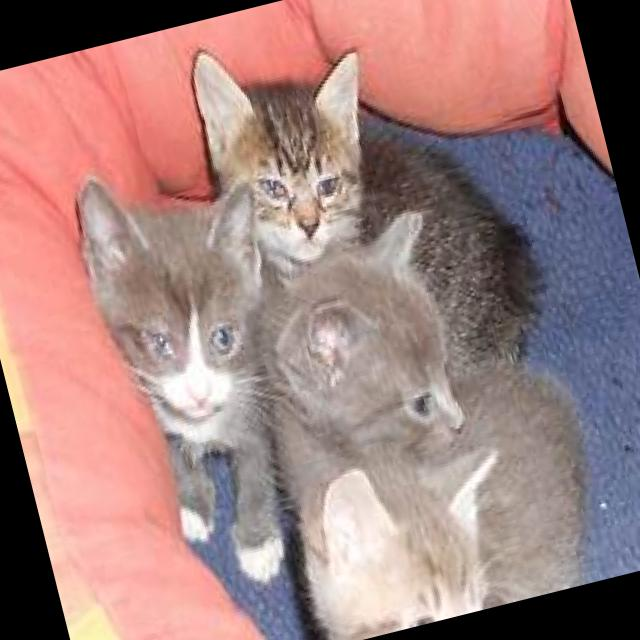animal: (235, 201, 614, 640), (187, 1, 547, 408), (70, 155, 316, 594)
